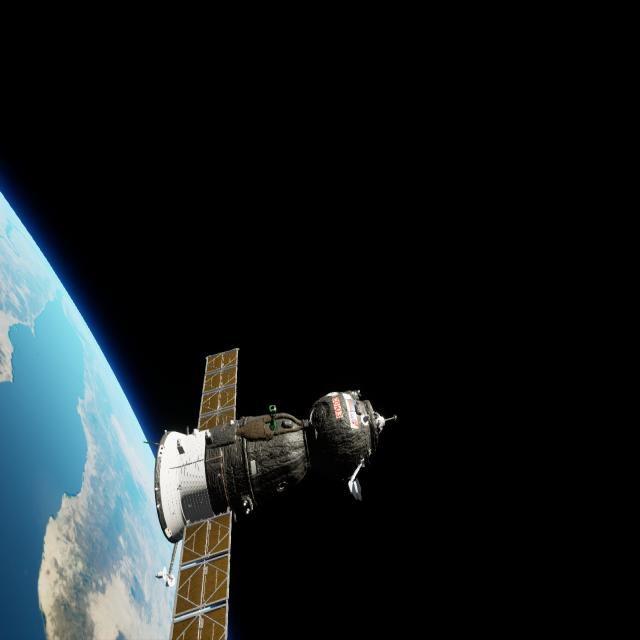Satellites revolving around earth: (151, 346, 397, 546)
